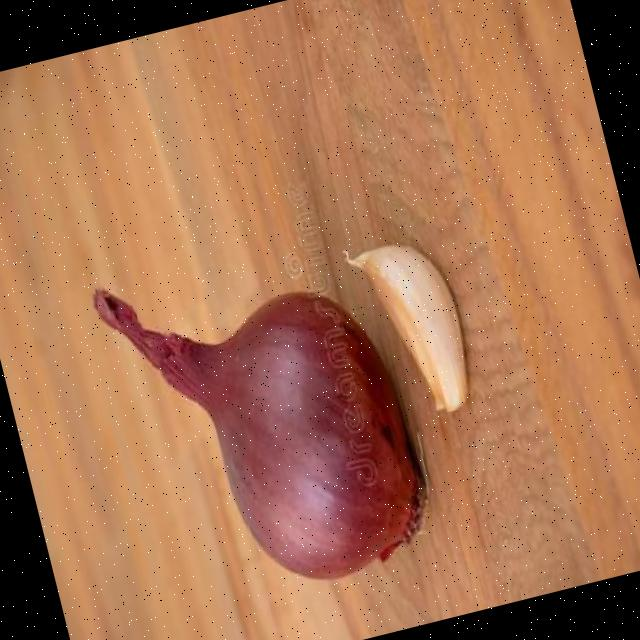Onion: (93, 288, 420, 578)
